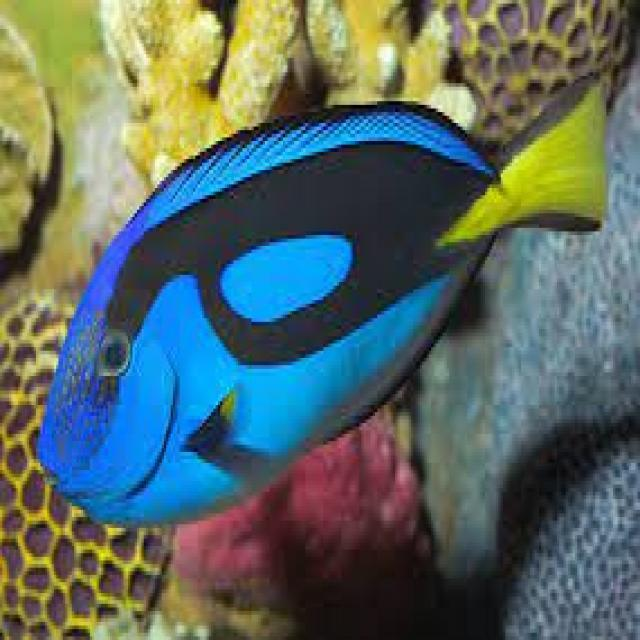BlueTang: (40, 100, 609, 522)
